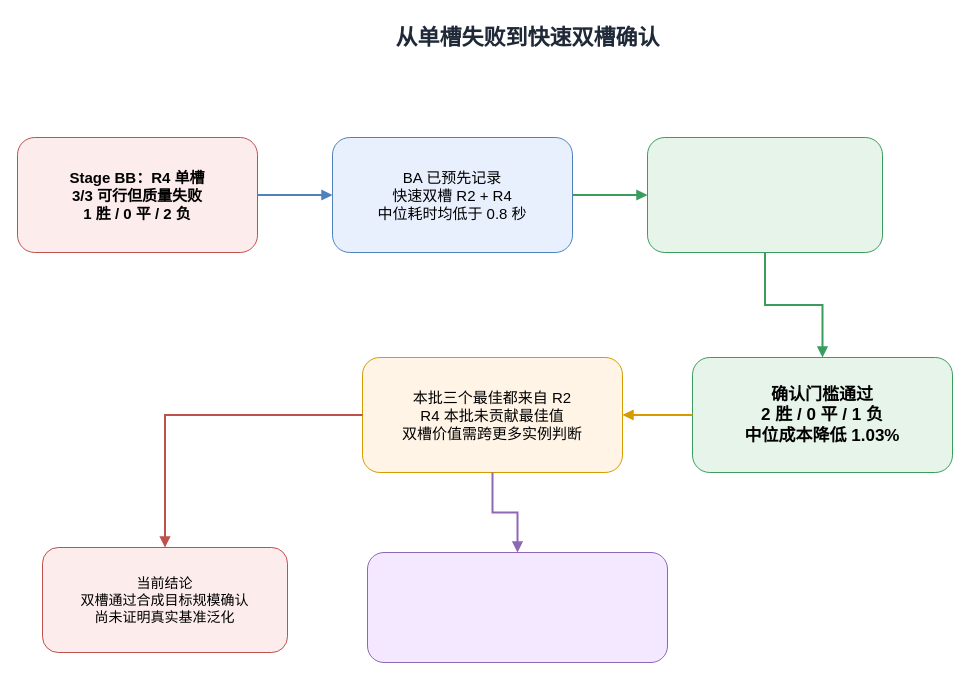
Some shapes in this 970 by 680 pixel diagram are drawn without their labels. The shapes that lost their labels are listed below. From the top down, each one's centre as x and y in pixels, then its label:
[764,194]: Stage BC 全新三实例 双槽 6/6 可行 当前 AW 12/12 可行
[517,607]: 下一步：TSPLIB Core-12 51–3038 节点 检查真实实例与跨规模泛化
